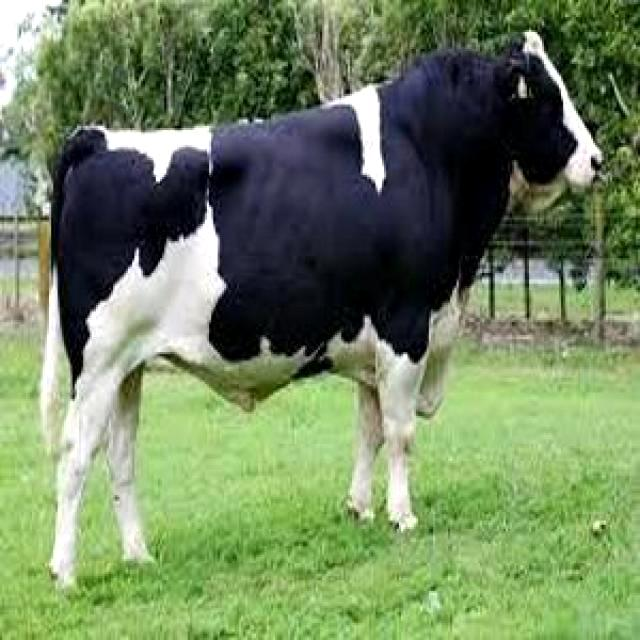COW: (42, 32, 600, 586)
